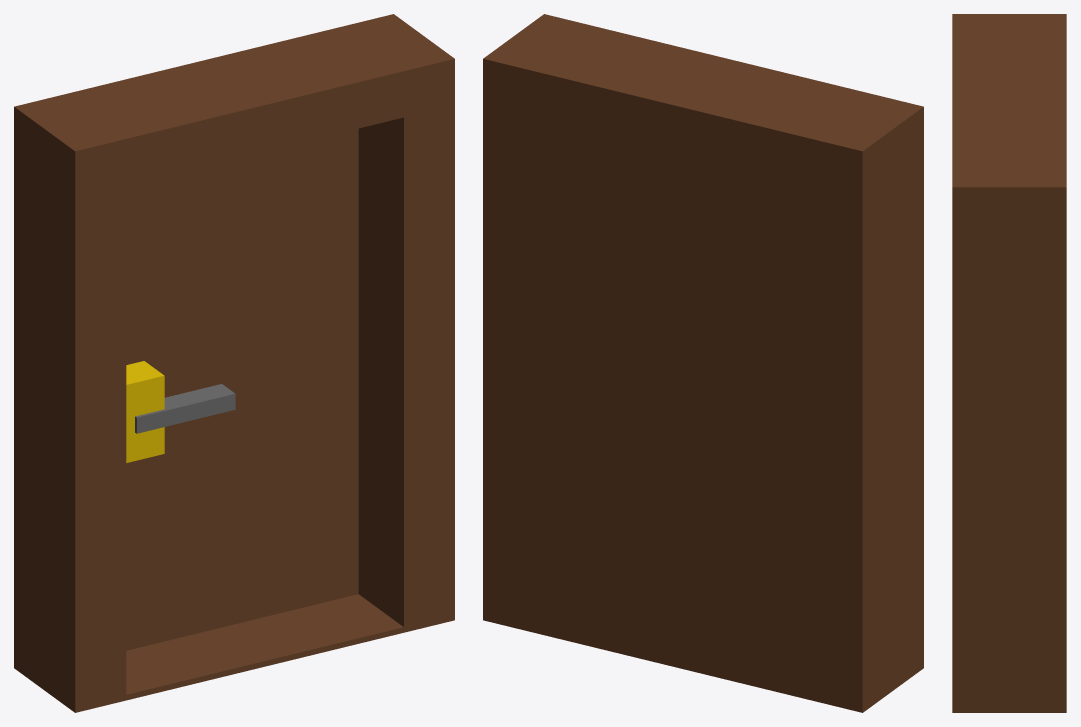
File: puerta.glb
3 renders of one model, left to right at view 1: azimuth 30°, elevation 25°; view 2: azimuth 150°, elevation 25°; view 3: azimuth 270°, elevation 25°, orthographic. The views are drawn at different scales.
Parts seen in each view (by area): view 1: Cube, Cubo, Cubo.001; view 2: Cube; view 3: Cube.
Part boxes in pixels (box(x1,y1,x2,y2)): Cube: box(14, 14, 454, 712); Cubo: box(126, 361, 164, 462); Cubo.001: box(135, 384, 235, 433); Cube: box(483, 14, 923, 712); Cube: box(952, 14, 1066, 712).
Bounding box in the file's own units: 7.17 × 10.13 × 2.
